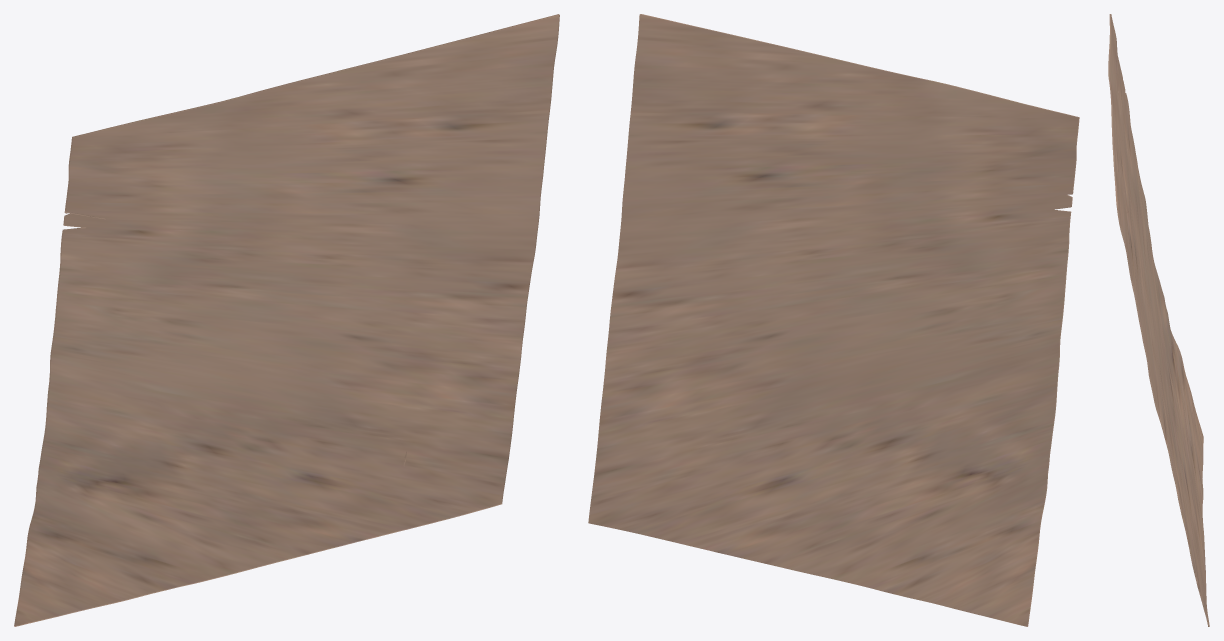
3 views of the same model, side by side, from view 1: azimuth 30°, elevation 25°; view 2: azimuth 150°, elevation 25°; view 3: azimuth 270°, elevation 25° (orthographic). The views are drawn at different scales.
Size of the model in its own units: 26.9 by 27.83 by 6.07.
Materials: 1 (1 with a texture image).
